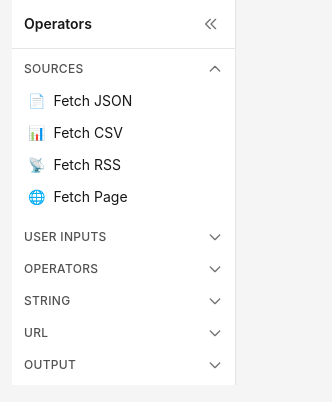
Test: Property Test: Operators Sidebar › should expand category when clicked
Step 1. Click the button "User Inputs" → click(124, 237), box top-left (12, 221), bottom-right (235, 253)
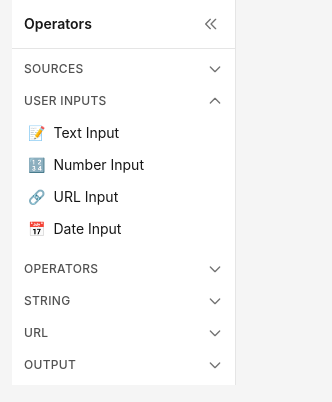
expect the text "Text Input" is shown: met, box top-left (54, 124), bottom-right (119, 141)
